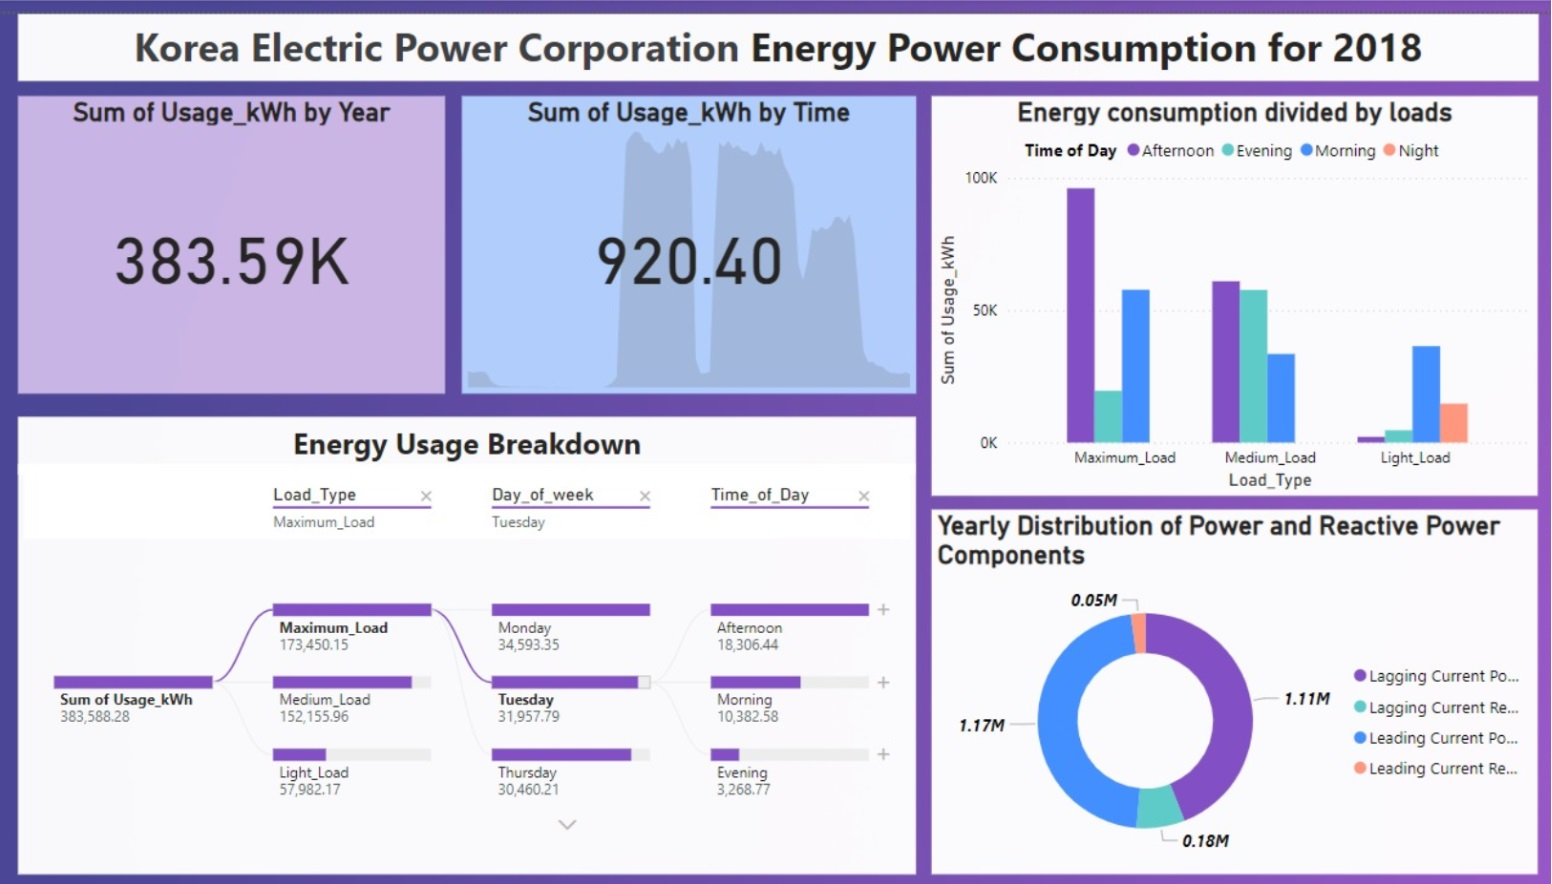

This screenshot's page, from the dashboard's own definition file:
{"tool":"powerbi","page":{"name":"Page 1","canvas":[1280,720],"ordinal":0},"visuals":[{"type":"decompositionTreeVisual","fields":{"Analyze":["Sum(Steel_industry_data.Usage_kWh)"],"ExplainBy":["Steel_industry_data.Load_Type","Steel_industry_data.Day_of_week","Steel_industry_data.Time_of_Day","Steel_industry_data.Leading_Current_Power_Factor","Steel_industry_data.CO2(tCO2)","Steel_industry_data.Leading_Current_Reactive_Power_kVarh","Steel_industry_data.Lagging_Current_Reactive.Power_kVarh","Steel_industry_data.Lagging_Current_Power_Factor","Steel_industry_data.WeekStatus","Steel_industry_data.NSM"]},"box":[17.5,370,738.8,337.5],"z":1000},{"type":"clusteredColumnChart","title":"Energy consumption divided by loads","fields":{"Category":["Steel_industry_data.Load_Type"],"Series":["Steel_industry_data.Time_of_Day"],"Y":["Sum(Steel_industry_data.Usage_kWh)"]},"box":[768.8,67.5,498.8,328.8],"z":2000},{"type":"donutChart","title":"Yearly Distribution of Power and Reactive Power Components","fields":{"Y":["Sum(Steel_industry_data.Lagging_Current_Power_Factor)","Sum(Steel_industry_data.Lagging_Current_Reactive.Power_kVarh)","Sum(Steel_industry_data.Leading_Current_Power_Factor)","Sum(Steel_industry_data.Leading_Current_Reactive_Power_kVarh)"]},"box":[768.8,407.5,498.8,300],"z":3000},{"type":"kpi","fields":{"Indicator":["Sum(Steel_industry_data.Usage_kWh)"],"TrendLine":["Steel_industry_data.Date.Variation.Date Hierarchy.Year"]},"box":[17.5,67.5,351.2,245],"z":4000},{"type":"kpi","fields":{"Indicator":["Sum(Steel_industry_data.Usage_kWh)"],"TrendLine":["Steel_industry_data.Time"]},"box":[382.5,67.5,373.8,245],"z":5000},{"type":"textbox","box":[17.5,331.2,738.8,47.5],"z":6000},{"type":"textbox","box":[17.5,0,1250,55],"z":7000}]}

Visuals, with their boxes in screenshot pixels (x1, y1, x2, y2), scaled from the page's 1280x720 canvas onto the 1552x884 screenshot:
decompositionTreeVisual - Sum(Steel_industry_data.Usage_kWh) x Steel_industry_data.Load_Type: [left=21, top=454, right=917, bottom=869]
"Energy consumption divided by loads" clusteredColumnChart: [left=932, top=83, right=1537, bottom=487]
"Yearly Distribution of Power and Reactive Power Components" donutChart: [left=932, top=500, right=1537, bottom=869]
kpi - Sum(Steel_industry_data.Usage_kWh) x Steel_industry_data.Date.Variation.Date Hierarchy.Year: [left=21, top=83, right=447, bottom=384]
kpi - Sum(Steel_industry_data.Usage_kWh) x Steel_industry_data.Time: [left=464, top=83, right=917, bottom=384]
textbox: [left=21, top=407, right=917, bottom=465]
textbox: [left=21, top=0, right=1537, bottom=68]
